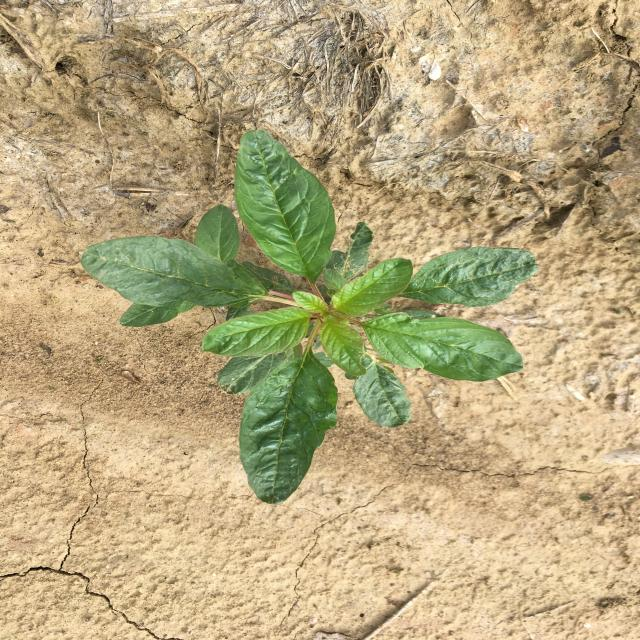Waterhemp: (81, 130, 541, 506)
